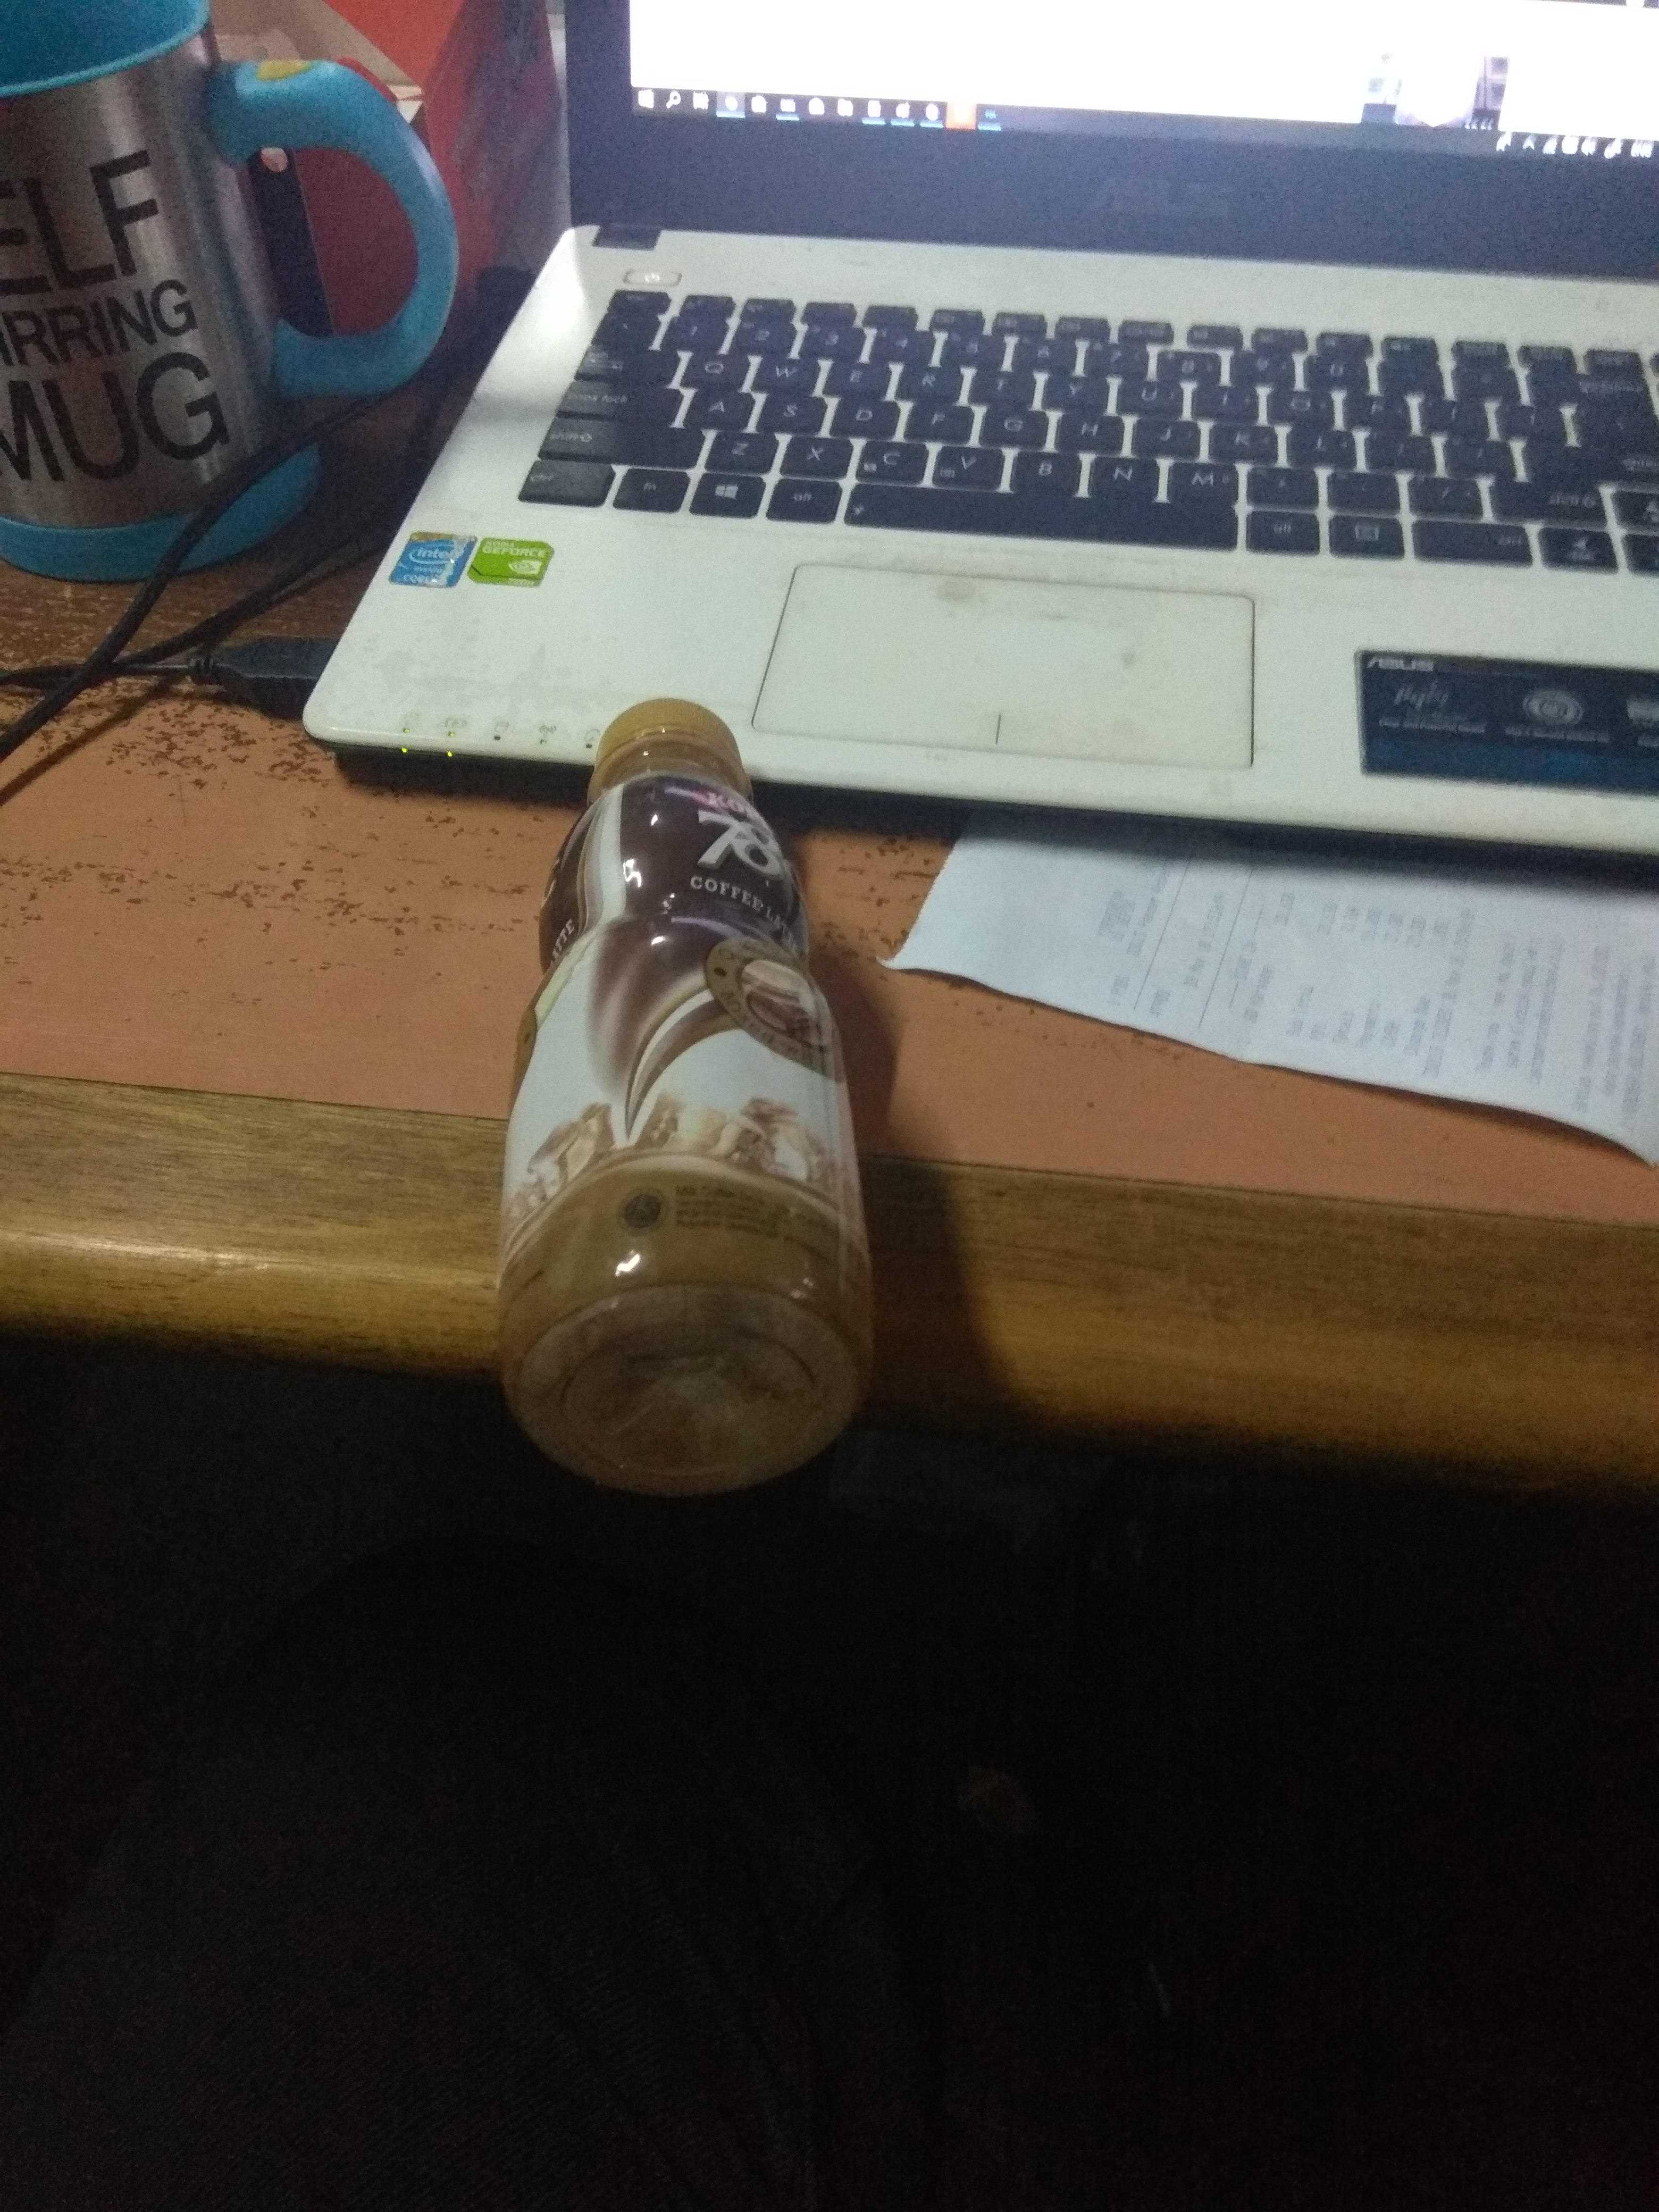botol: (488, 700, 884, 1498), (488, 714, 884, 1498), (530, 714, 884, 1498)
